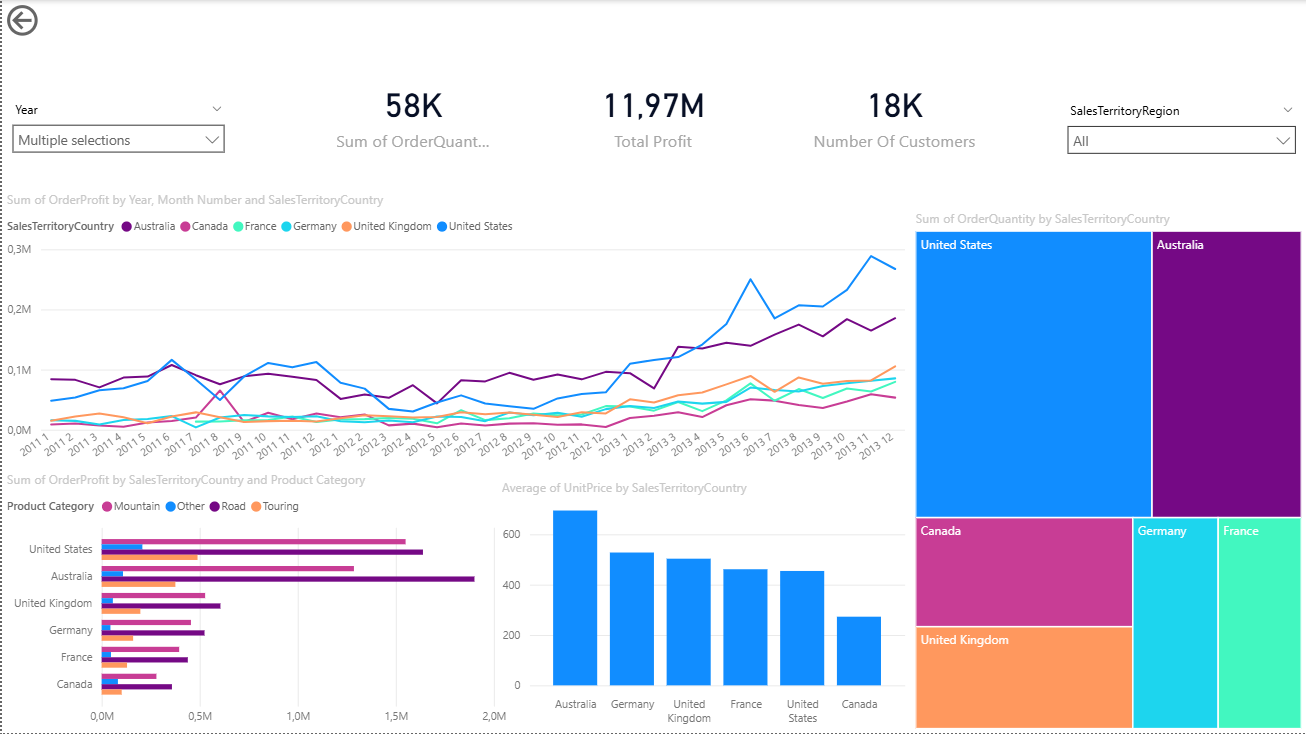

Layout of this report page (visuals, bound fields, positions):
{"tool":"powerbi","page":{"name":"Country DASHBOARD","canvas":[1280,720],"ordinal":3},"visuals":[{"type":"clusteredBarChart","fields":{"Category":["1740092846754.SalesTerritoryCountry"],"Y":["Sum(factInternetSales.OrderProfit)"],"Series":["dimProduct.Product Category"]},"box":[0,462.9,500,257.1],"z":0},{"type":"columnChart","fields":{"Category":["1740092846754.SalesTerritoryCountry"],"Y":["Avg(factInternetSales.UnitPrice)"]},"box":[485.7,470,405.7,250],"z":1000},{"type":"slicer","fields":{"Values":["DateTable.Year"]},"box":[0,94.3,228.6,72.9],"z":2000},{"type":"slicer","fields":{"Values":["1740092846754.SalesTerritoryRegion"]},"box":[1035.7,95.7,244.3,72.9],"z":3000},{"type":"card","fields":{"Values":["Sum(factInternetSales.OrderQuantity)"]},"box":[321.4,37.1,164.3,150],"z":4000},{"type":"card","fields":{"Values":["factInternetSales.Total Profit"]},"box":[500,37.1,280,150],"z":5000},{"type":"treemap","fields":{"Group":["1740092846754.SalesTerritoryCountry"],"Values":["Sum(factInternetSales.OrderQuantity)"]},"box":[891.4,205.7,388.6,514.3],"z":6000},{"type":"card","fields":{"Values":["dimCustomer.countcustmerr"]},"box":[735.7,37.1,280,150],"z":6001},{"type":"lineChart","fields":{"Y":["Sum(factInternetSales.OrderProfit)"],"Category":["DateTable.Year","DateTable.Month Number"],"Series":["1740092846754.SalesTerritoryCountry"]},"box":[0,187.1,891.4,275.7],"z":6002},{"type":"actionButton","box":[0,0,100,40],"z":6003}]}

Visuals, with their boxes on the page's 1280x720 design canvas (x1, y1, x2, y2). These are canvas units, not pixel positions in the 1306x734 screenshot, which may show the page scaled, cropped or inside an application window:
clusteredBarChart - 1740092846754.SalesTerritoryCountry x Sum(factInternetSales.OrderProfit): l=0, t=463, r=500, b=720
columnChart - 1740092846754.SalesTerritoryCountry x Avg(factInternetSales.UnitPrice): l=486, t=470, r=891, b=720
slicer - DateTable.Year: l=0, t=94, r=229, b=167
slicer - 1740092846754.SalesTerritoryRegion: l=1036, t=96, r=1280, b=169
card - Sum(factInternetSales.OrderQuantity): l=321, t=37, r=486, b=187
card - factInternetSales.Total Profit: l=500, t=37, r=780, b=187
treemap - 1740092846754.SalesTerritoryCountry x Sum(factInternetSales.OrderQuantity): l=891, t=206, r=1280, b=720
card - dimCustomer.countcustmerr: l=736, t=37, r=1016, b=187
lineChart - Sum(factInternetSales.OrderProfit) x DateTable.Year: l=0, t=187, r=891, b=463
actionButton: l=0, t=0, r=100, b=40
